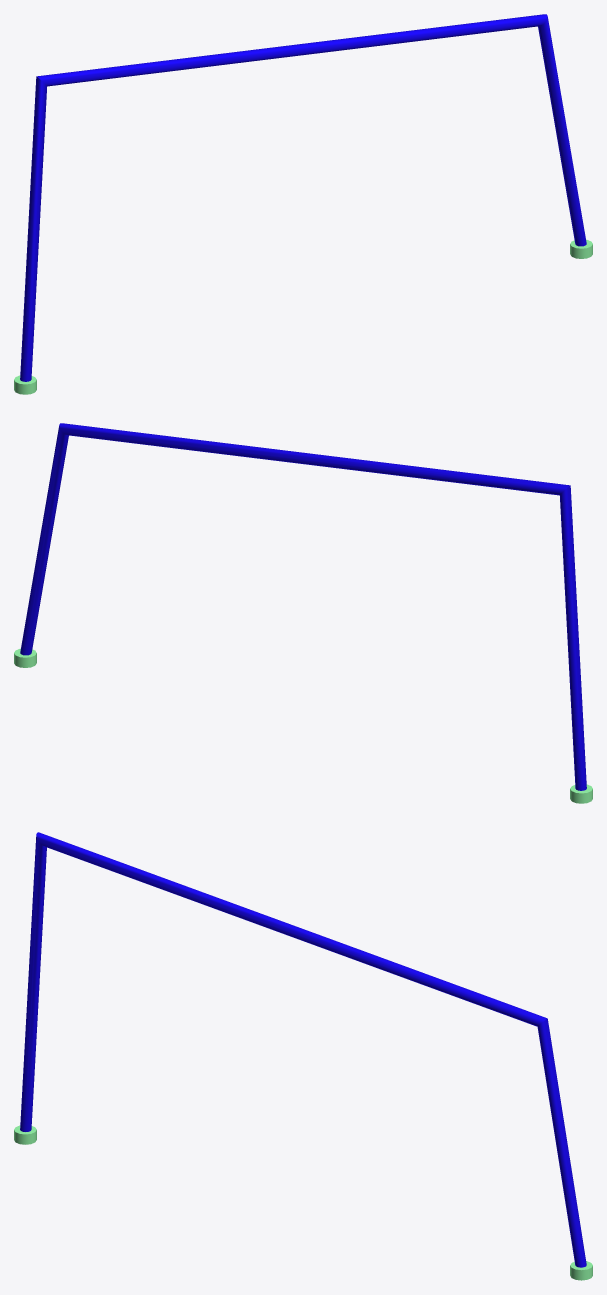
The picture shows the model from 3 angles, top to bottom: view 1: azimuth 30°, elevation 25°; view 2: azimuth 150°, elevation 25°; view 3: azimuth 330°, elevation 25°; orthographic projection.
Parts seen in each view (by area): view 1: Line002; view 2: Line002; view 3: Line002.
Boxes of the visible parts, <box> form: Line002: <box>14,14,592,394</box>; Line002: <box>14,423,592,803</box>; Line002: <box>14,832,592,1280</box>.
Bounding box in the file's own units: 291 × 150 × 10.
